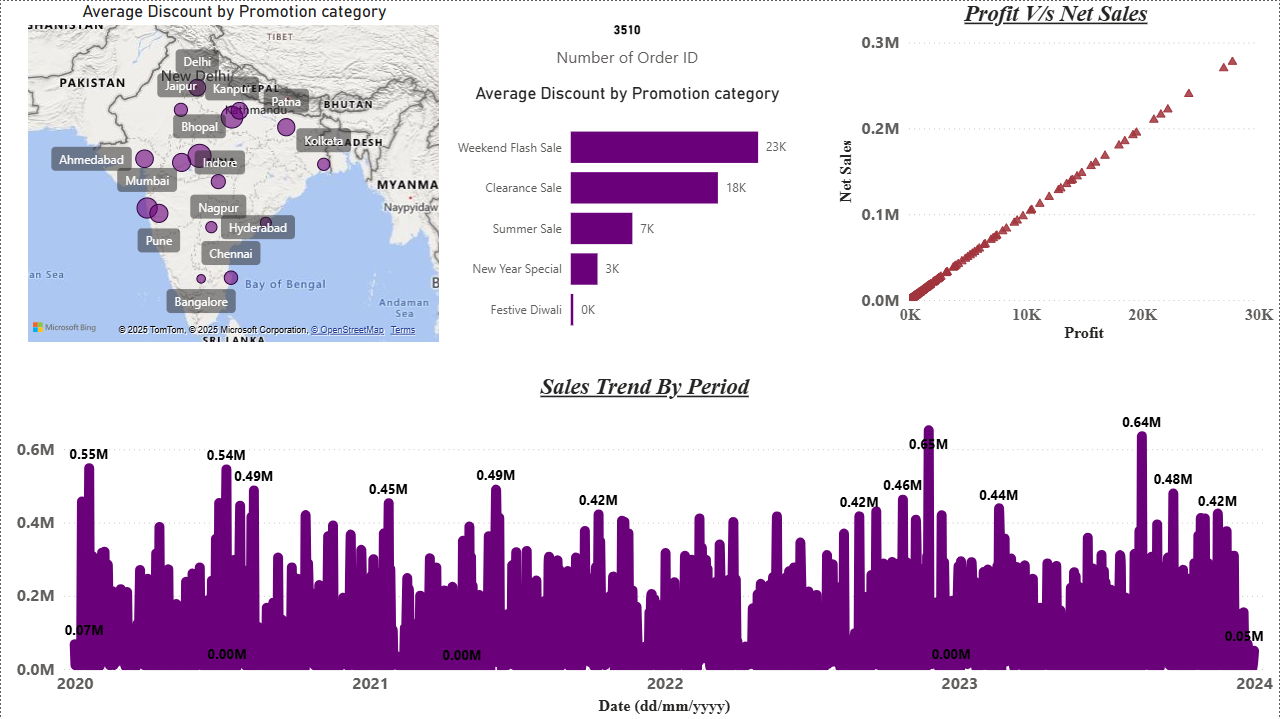

What the dashboard file says about the page in this screenshot:
{"tool":"powerbi","page":{"name":"Overview","canvas":[1280,720],"ordinal":0},"visuals":[{"type":"lineChart","title":"Sales Trend By Period","fields":{"Y":["Sum(Fact Table.Net Sales)"],"Category":["Fact Table.Date (dd/mm/yyyy).Variation.Date Hierarchy.Year"]},"box":[10.1,373.9,1269.6,346.4],"z":0},{"type":"scatterChart","title":"Profit V/s  Net Sales","fields":{"X":["Fact Table.Profit"],"Y":["Fact Table.Net Sales"]},"box":[833.3,0,446.4,346.4],"z":1000},{"type":"barChart","title":"Average Discount by Promotion category","fields":{"Y":["Avg(Fact Table.Discount Value)"],"Category":["Dim Promotion.Promotion Name"]},"box":[445,82.5,365,265],"z":2000},{"type":"map","title":"Average Discount by Promotion category","fields":{"Category":["Dim Customers.City"],"Size":["Sum(Fact Table.Net Sales)"]},"box":[22.5,0,422.5,346.2],"z":3000},{"type":"card","fields":{"Values":["Count(Fact Table.Order ID)"]},"box":[477.5,0,300,82.5],"z":4000}]}

Visuals, with their boxes in screenshot pixels (x1, y1, x2, y2), scaled from the page's 1280x720 canvas onto the 1280x719 screenshot:
"Sales Trend By Period" lineChart: detection(10, 373, 1279, 718)
"Profit V/s  Net Sales" scatterChart: detection(833, 0, 1279, 346)
"Average Discount by Promotion category" barChart: detection(445, 82, 810, 347)
"Average Discount by Promotion category" map: detection(22, 0, 445, 346)
card - Count(Fact Table.Order ID): detection(478, 0, 778, 82)
